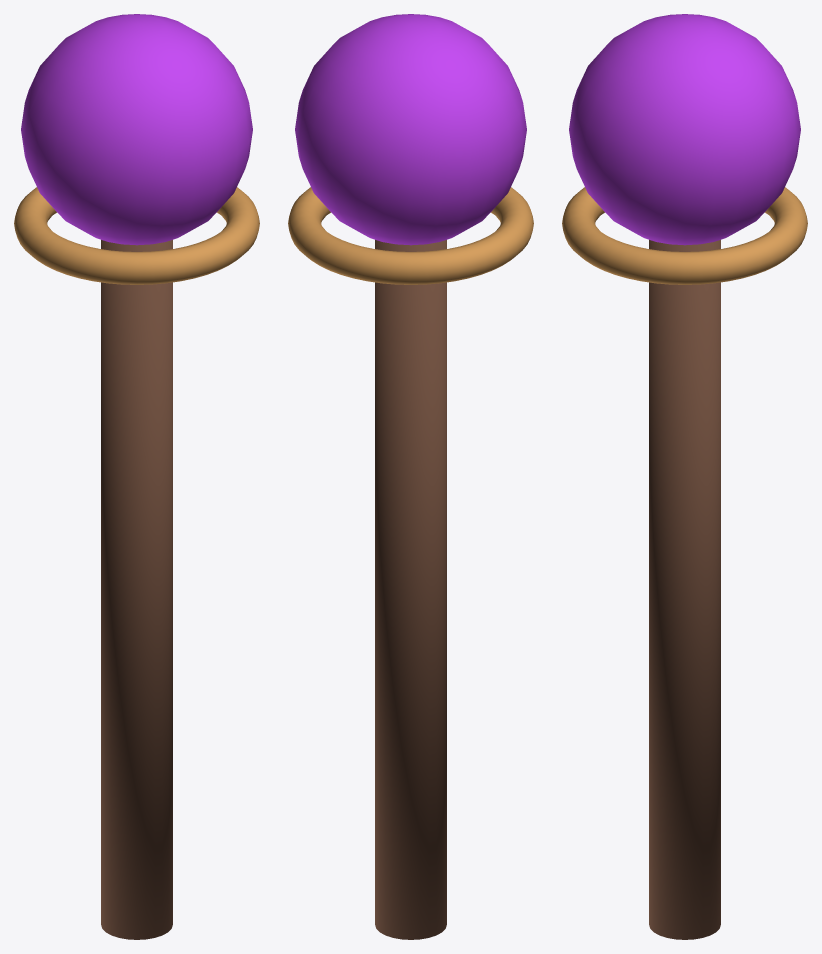
The model's file is standard.glb.
The picture shows the model from 3 angles, left to right: view 1: azimuth 30°, elevation 25°; view 2: azimuth 150°, elevation 25°; view 3: azimuth 270°, elevation 25°; orthographic projection.
Visible parts, largest first — view 1: Arme_standard; view 2: Arme_standard; view 3: Arme_standard.
Part boxes in pixels (left/top/right/bottom): Arme_standard: left=14, top=14, right=259, bottom=939; Arme_standard: left=288, top=14, right=533, bottom=939; Arme_standard: left=562, top=14, right=807, bottom=939.
Bounding box in the file's own units: 0.178 × 0.719 × 0.178.
